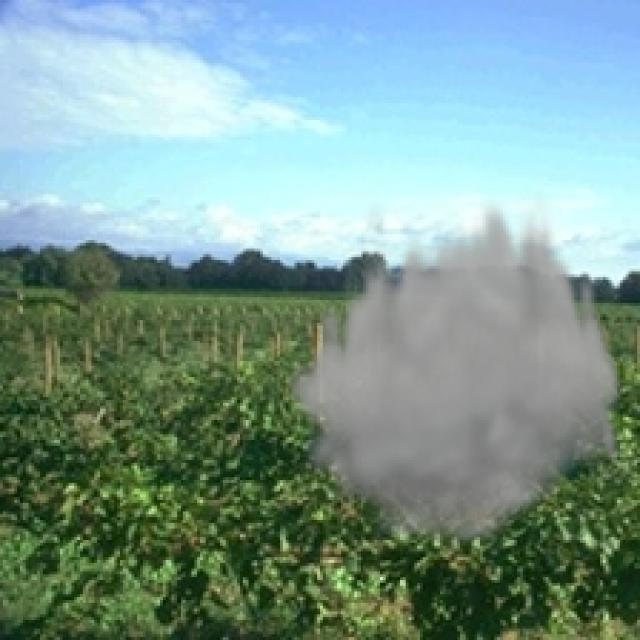Smoke: (283, 192, 626, 552)
